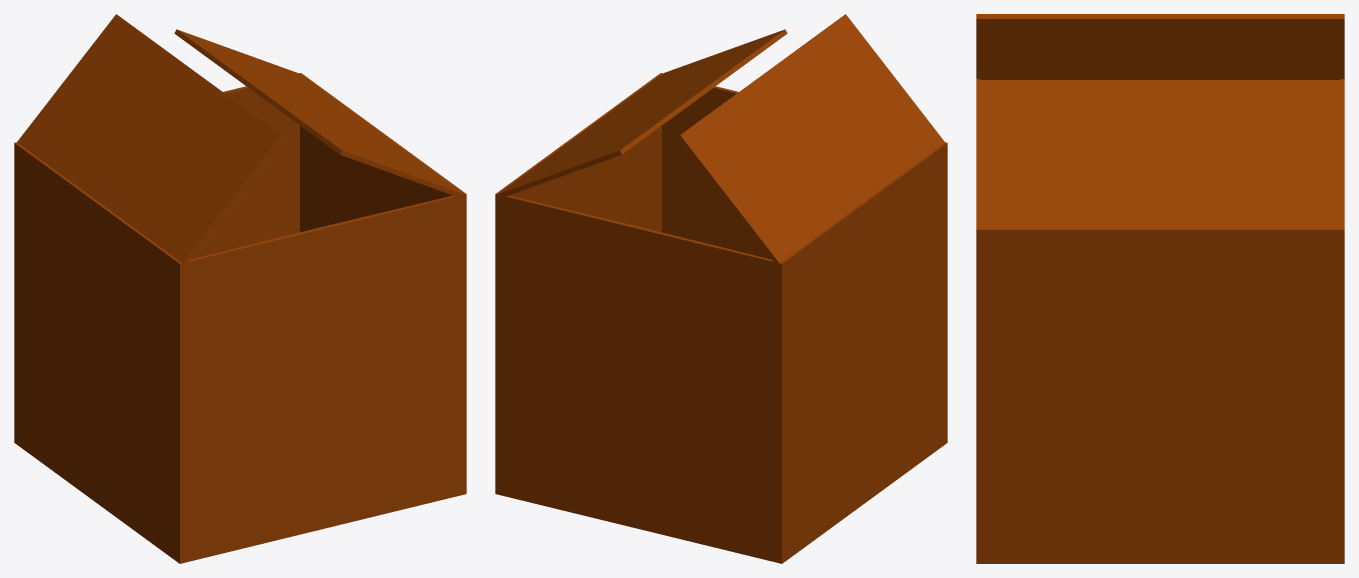
3 renders of one model, left to right at view 1: azimuth 30°, elevation 25°; view 2: azimuth 150°, elevation 25°; view 3: azimuth 270°, elevation 25°, orthographic. The views are drawn at different scales.
Visible parts, largest first — view 1: Cube, Cube.001, Cube.002; view 2: Cube, Cube.001, Cube.002; view 3: Cube, Cube.002, Cube.001.
Boxes of the visible parts, <box> form: Cube: <box>14,73,466,563</box>; Cube.001: <box>17,14,284,267</box>; Cube.002: <box>174,29,464,197</box>; Cube: <box>495,73,947,563</box>; Cube.001: <box>677,14,944,267</box>; Cube.002: <box>496,29,787,198</box>; Cube: <box>976,79,1344,563</box>; Cube.002: <box>976,80,1344,228</box>; Cube.001: <box>976,14,1344,79</box>.
Size of the model in its own units: 67.7 by 91.16 by 67.7.
